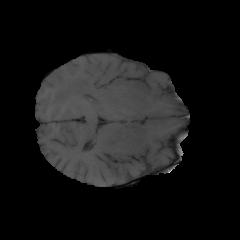glioma: (49, 76, 113, 112)
